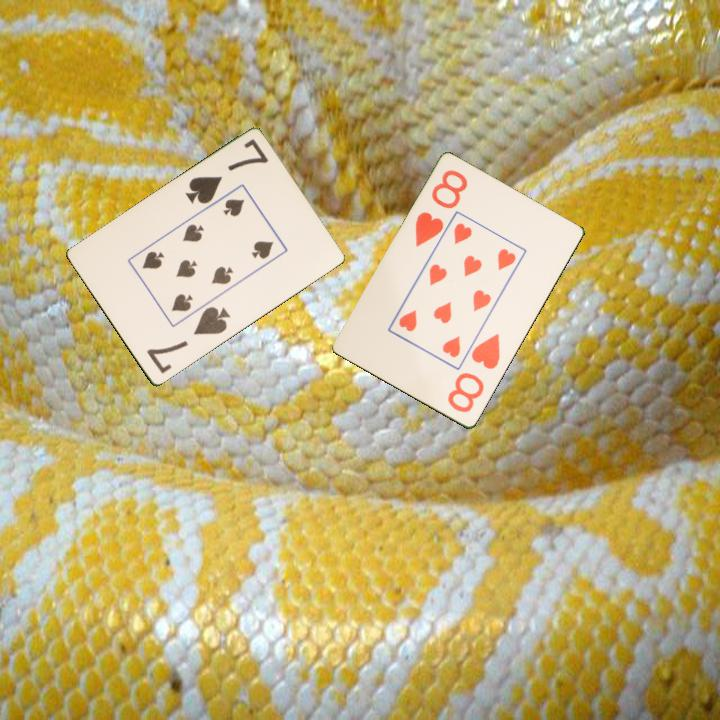7s: (143, 303, 234, 377), (182, 136, 271, 208)
8h: (444, 330, 503, 416), (411, 166, 471, 250)
